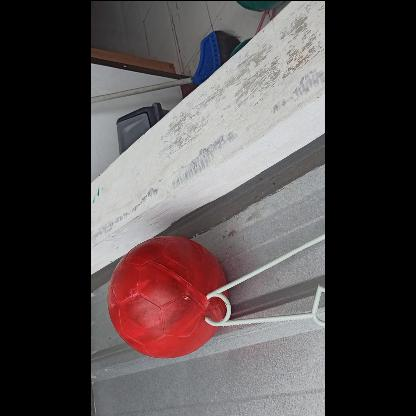red_ball: (107, 238, 228, 358)
